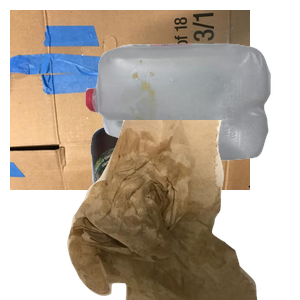cardboard: (10, 10, 250, 190)
glass: (88, 120, 252, 300)
plastic: (83, 41, 300, 194)
trash: (65, 120, 300, 300)
